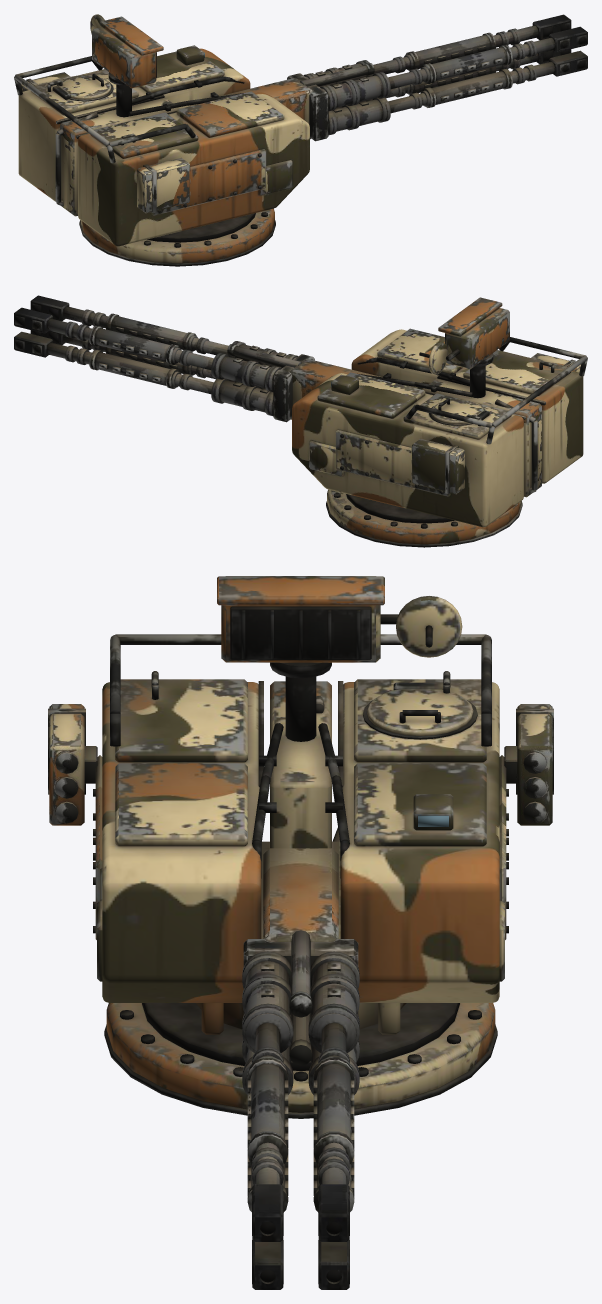
File: turret_kit_quad.glb
The picture shows the model from 3 angles, top to bottom: view 1: azimuth 30°, elevation 25°; view 2: azimuth 150°, elevation 25°; view 3: azimuth 270°, elevation 25°; orthographic projection. The views are drawn at different scales.
Parts seen in each view (by area): view 1: turret_twin_quad, guns, pods; view 2: turret_twin_quad, guns, pods; view 3: turret_twin_quad, guns, pods.
Part boxes in pixels (left/top/right/bottom): turret_twin_quad: left=14, top=14, right=309, bottom=266; guns: left=220, top=14, right=587, bottom=141; pods: left=20, top=72, right=190, bottom=213; turret_twin_quad: left=292, top=297, right=587, bottom=547; guns: left=14, top=295, right=382, bottom=422; pods: left=411, top=353, right=581, bottom=494; turret_twin_quad: left=93, top=576, right=508, bottom=1118; guns: left=242, top=848, right=359, bottom=1289; pods: left=48, top=704, right=553, bottom=825.
Bounding box in the file's own units: 2.7 × 1.01 × 1.15.
Materials: 4 (3 with a texture image).
